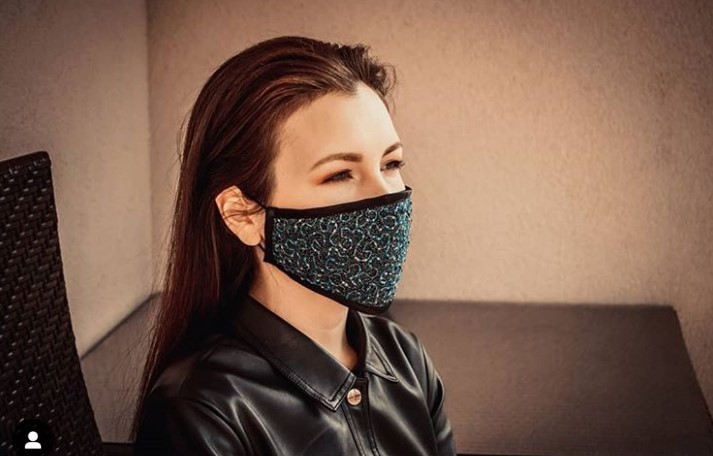face_with_mask: (212, 50, 413, 324)
